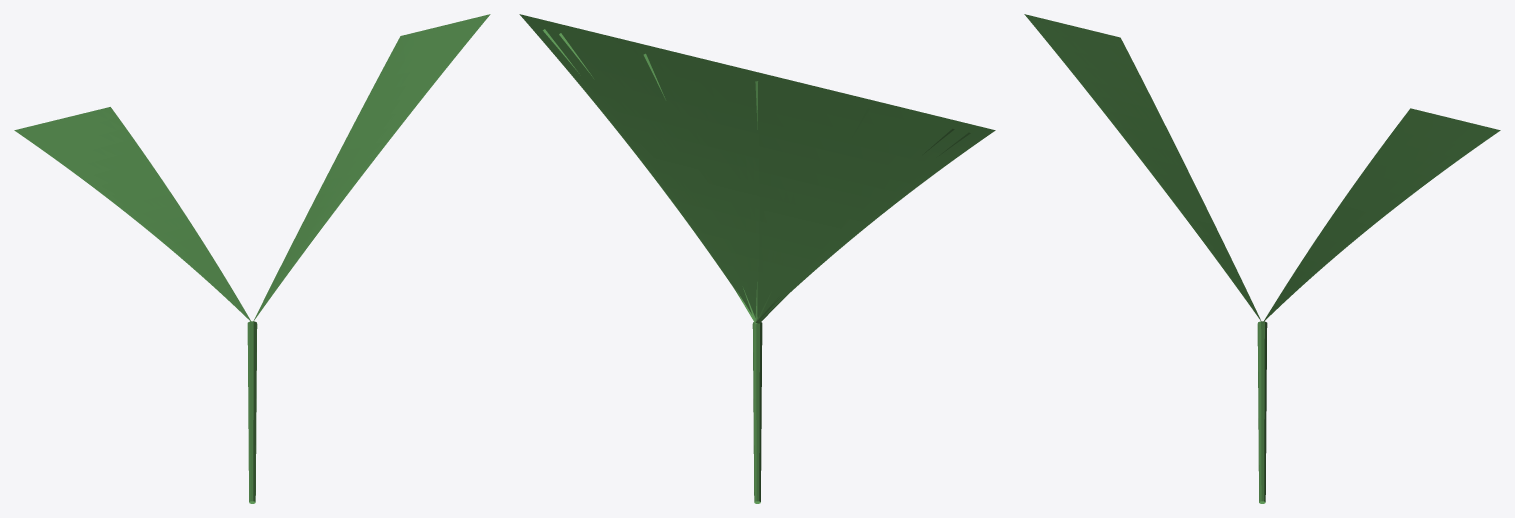
File: ginkgo-leaf.glb
The picture shows the model from 3 angles, left to right: view 1: azimuth 30°, elevation 25°; view 2: azimuth 150°, elevation 25°; view 3: azimuth 330°, elevation 25°; orthographic projection.
Visible parts, largest first — view 1: world; view 2: world; view 3: world.
Part boxes in pixels (bbox=[...]): world: bbox=[14, 14, 490, 503]; world: bbox=[519, 14, 995, 503]; world: bbox=[1024, 14, 1500, 503].
Size of the model in its own units: 2.78 by 2.4 by 0.068.
